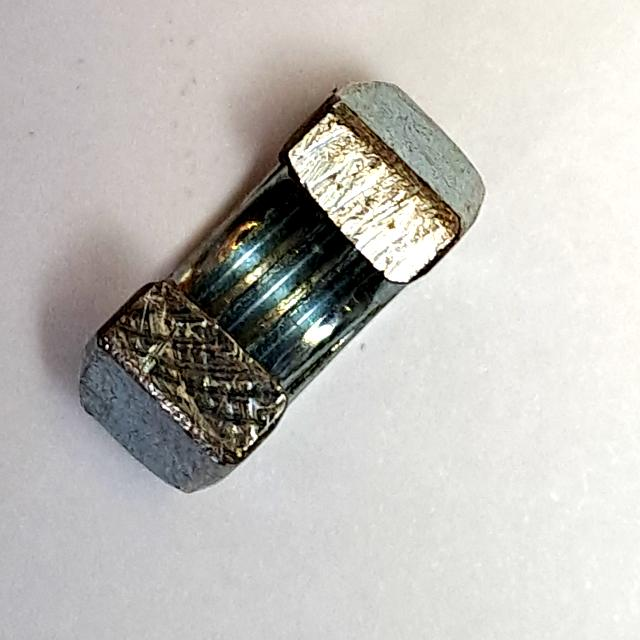Side-Fracture: (66, 68, 494, 506)
